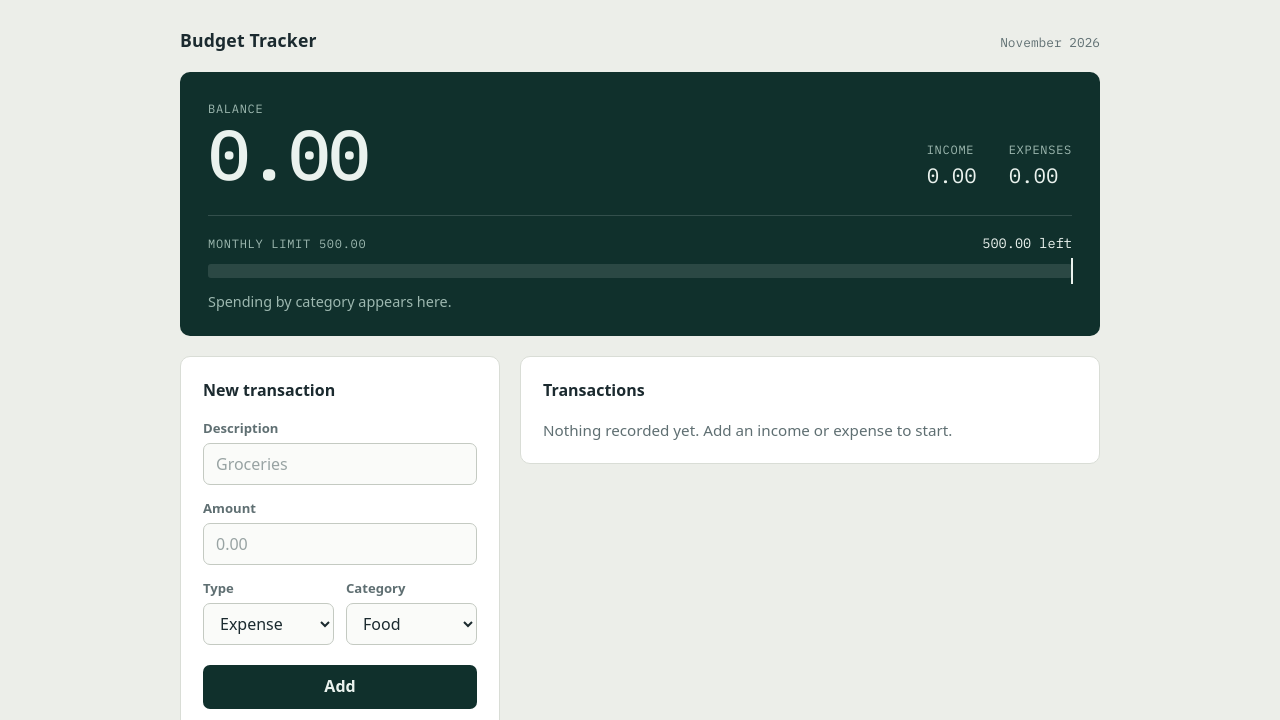
Scenario: App › shows spending per category and the amount left under the limit
This screenshot has width=1280, height=720.
Type "Lunch" into the field labelled "Description" at x=340, y=464, box left=203, top=443, right=477, bottom=485
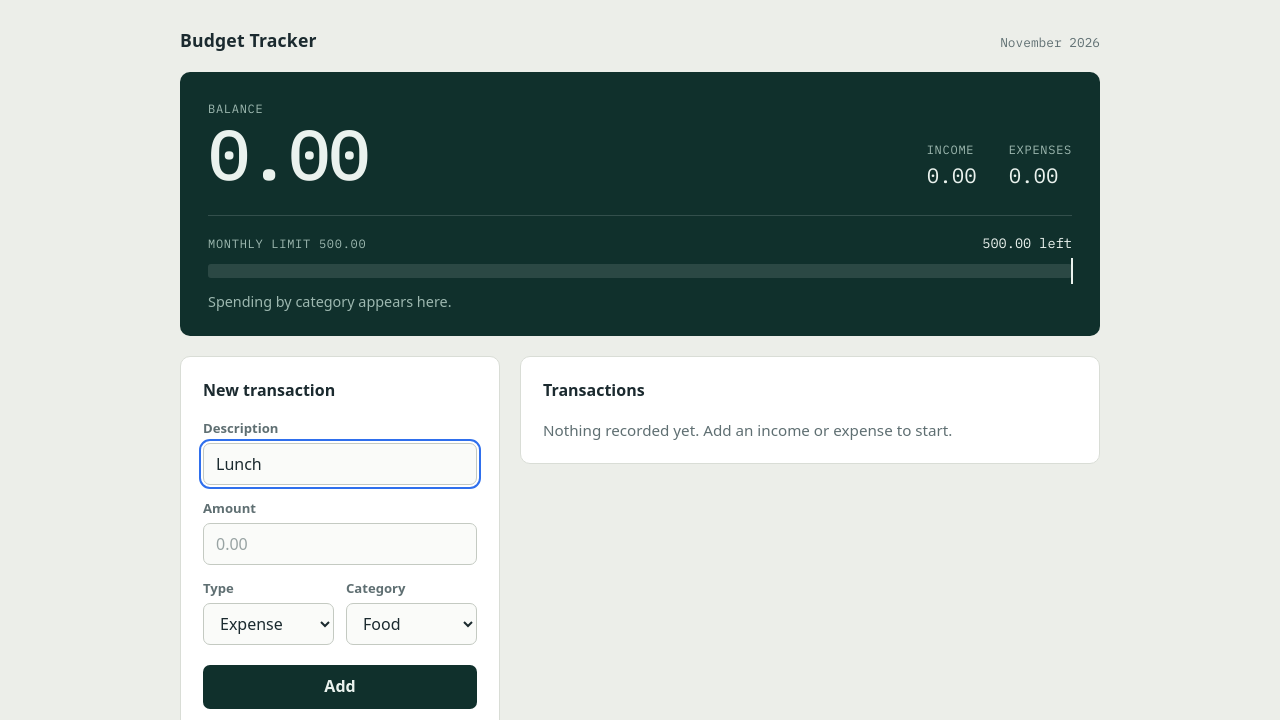
Type "40" into the field labelled "Amount" at x=340, y=544, box left=203, top=523, right=477, bottom=565
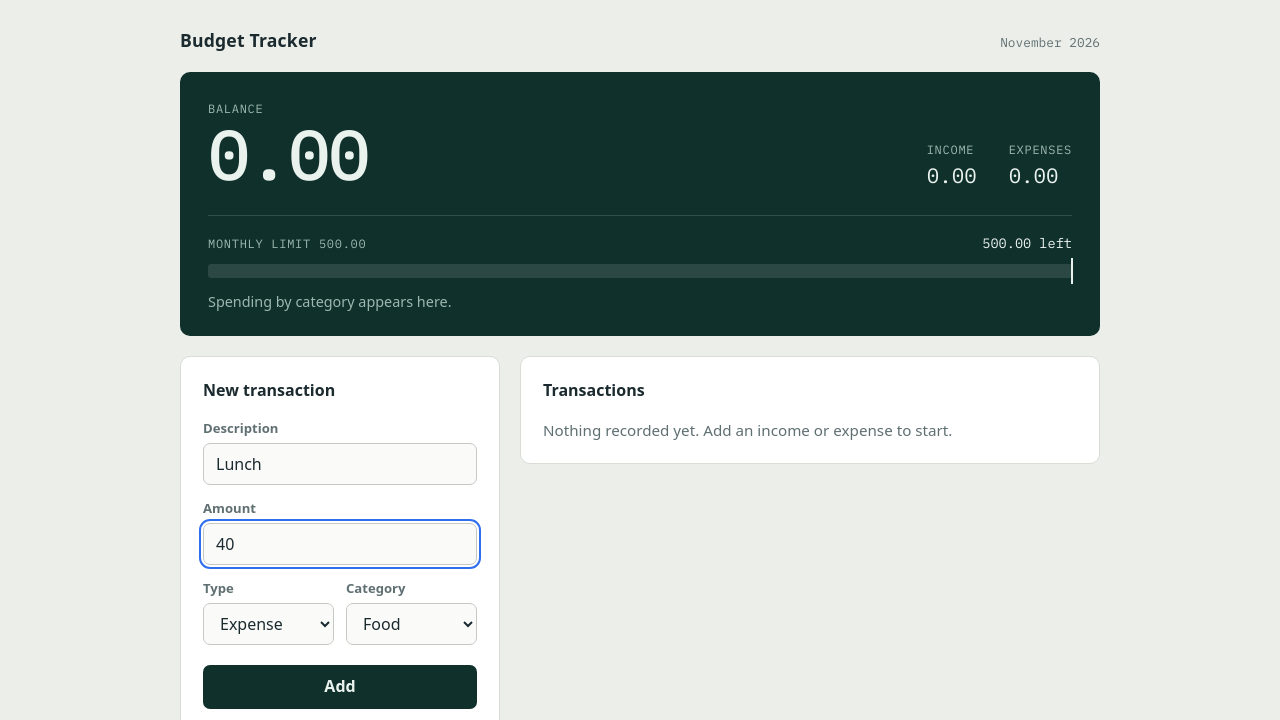
Select "Expense" in the dropdown labelled "Type" at x=268, y=624, box left=203, top=603, right=334, bottom=645
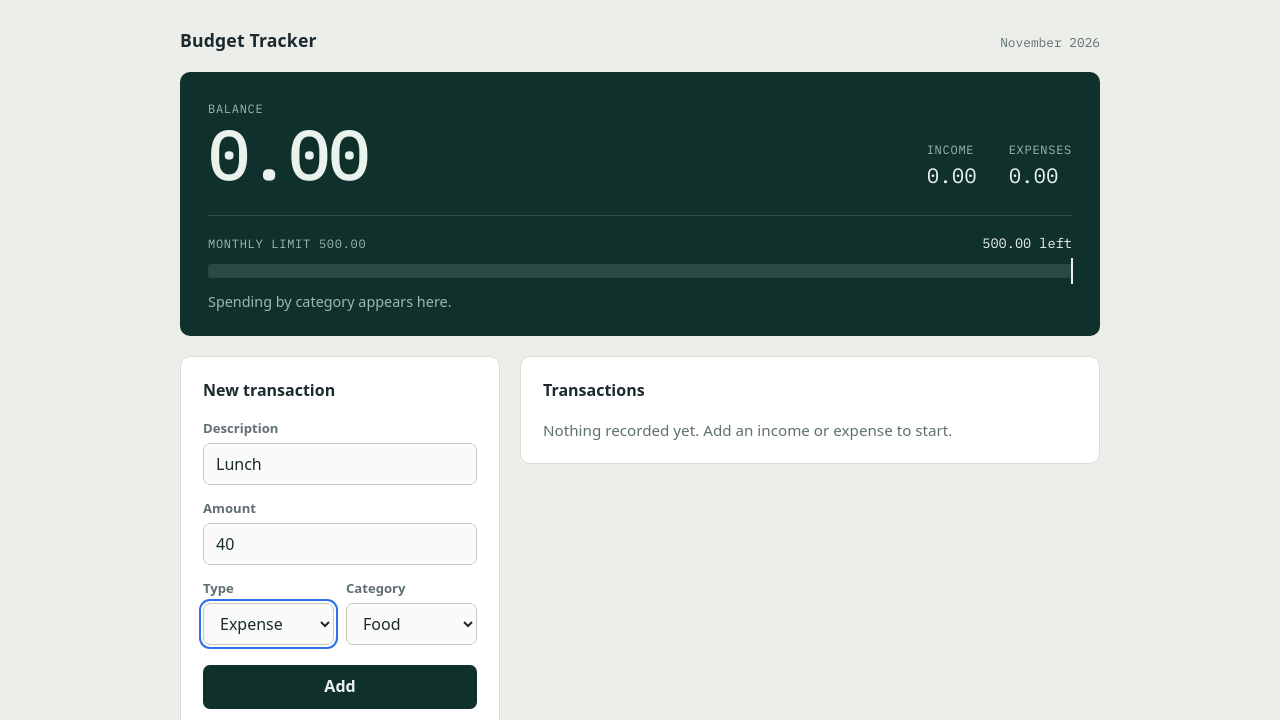
Click the button "Add" at x=340, y=687, box left=203, top=665, right=477, bottom=709
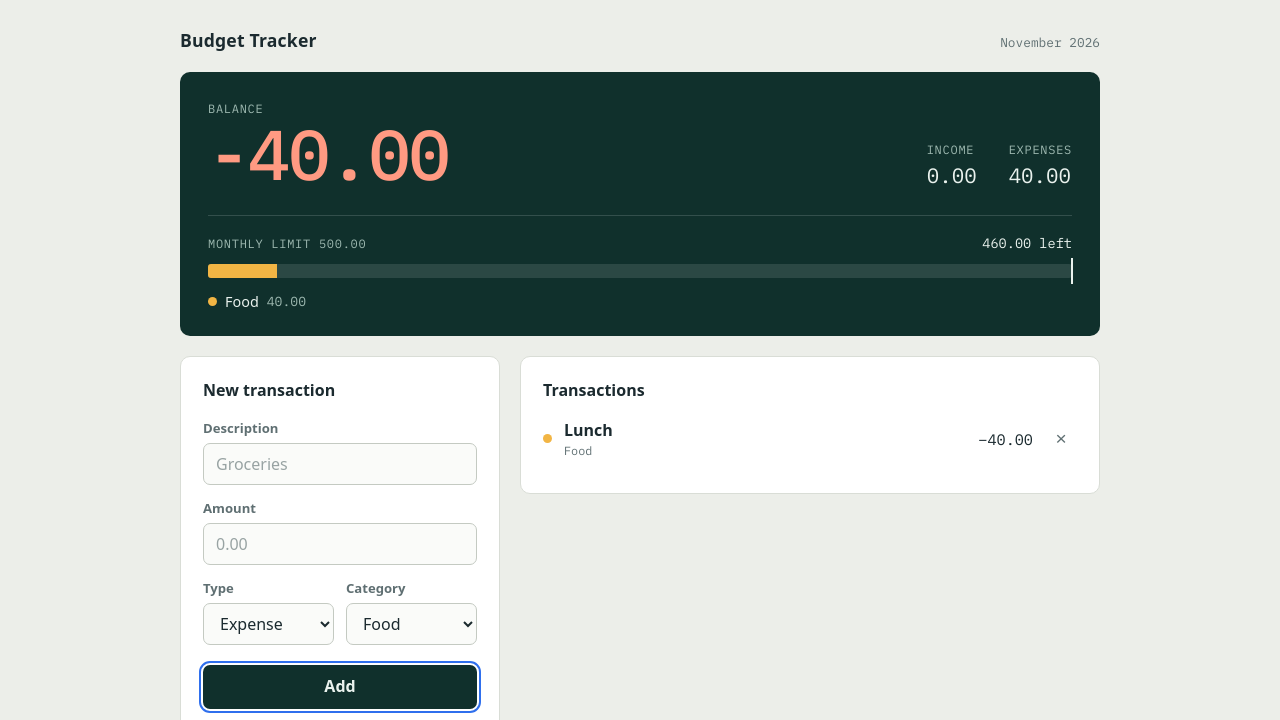
Now the text "460.00 left" is shown, box left=982, top=234, right=1072, bottom=254
Now the picture named "Spent 40.00 of 500.00 limit" is shown, box left=208, top=264, right=1072, bottom=278
Now the list item "Food" shows "40.00", box left=267, top=293, right=306, bottom=310
